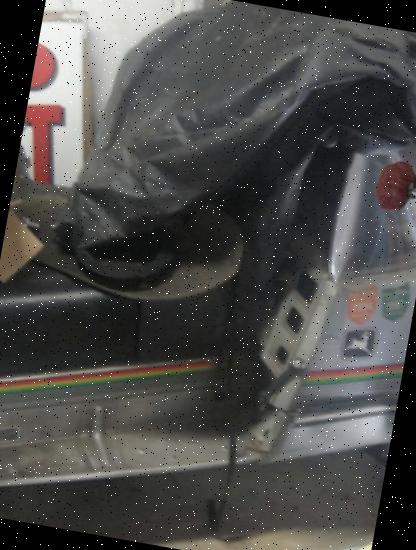Strawberry: (366, 155, 416, 216)
